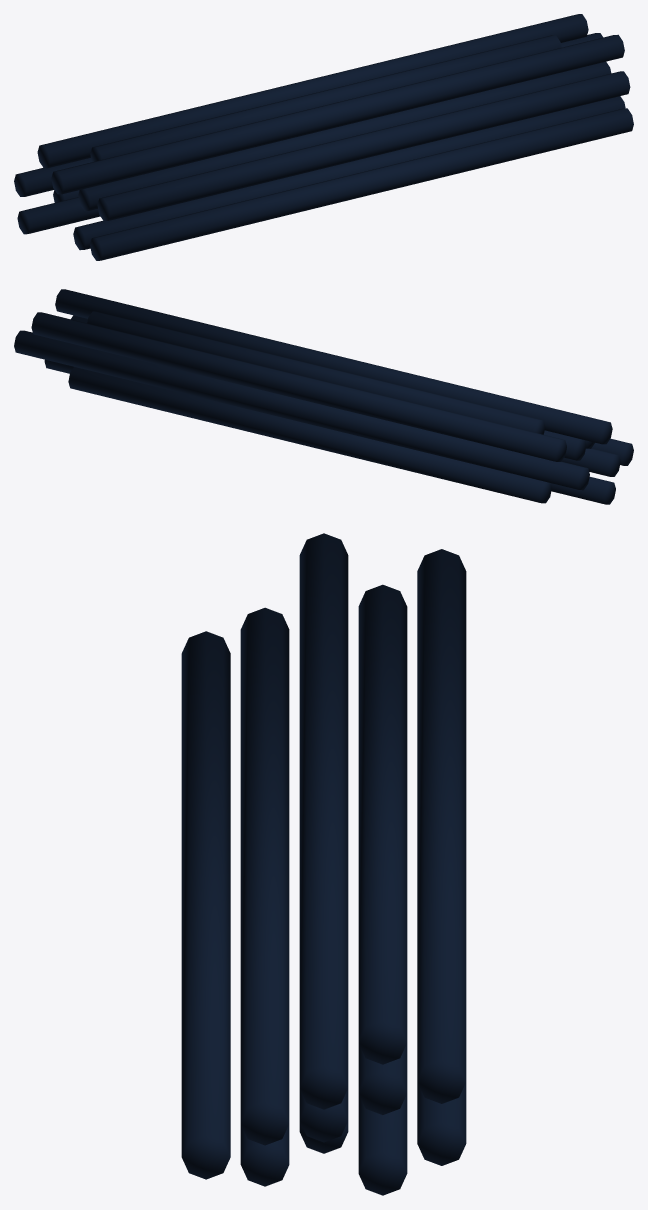
Rendered from PIPE_STACK.dae.
3 views of the same model, one above another, from view 1: azimuth 30°, elevation 25°; view 2: azimuth 150°, elevation 25°; view 3: azimuth 270°, elevation 25° (orthographic). The views are drawn at different scales.
Visible parts, largest first — view 1: PIPE_STACK; view 2: PIPE_STACK; view 3: PIPE_STACK.
Part boxes in pixels (left/top/right/bottom): PIPE_STACK: left=14, top=14, right=633, bottom=260; PIPE_STACK: left=14, top=289, right=633, bottom=504; PIPE_STACK: left=181, top=533, right=466, bottom=1195.
Bounding box in the file's own units: 3.16 × 0.676 × 0.352.
